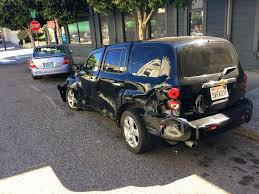quaterpanel-dent: (135, 84, 177, 121)
rear-bumper-dent: (166, 122, 224, 145)
